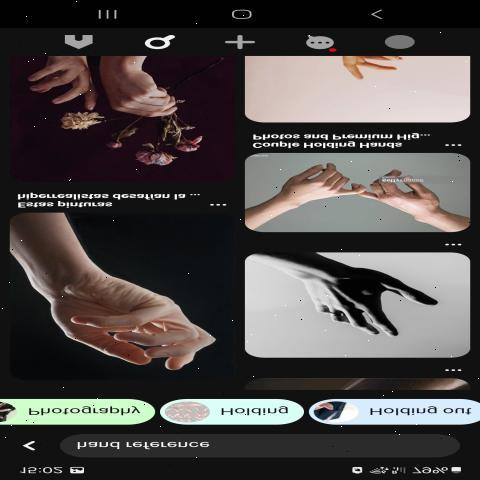Hands: (27, 241, 224, 387), (300, 263, 450, 352), (347, 169, 462, 225), (266, 156, 370, 213)
